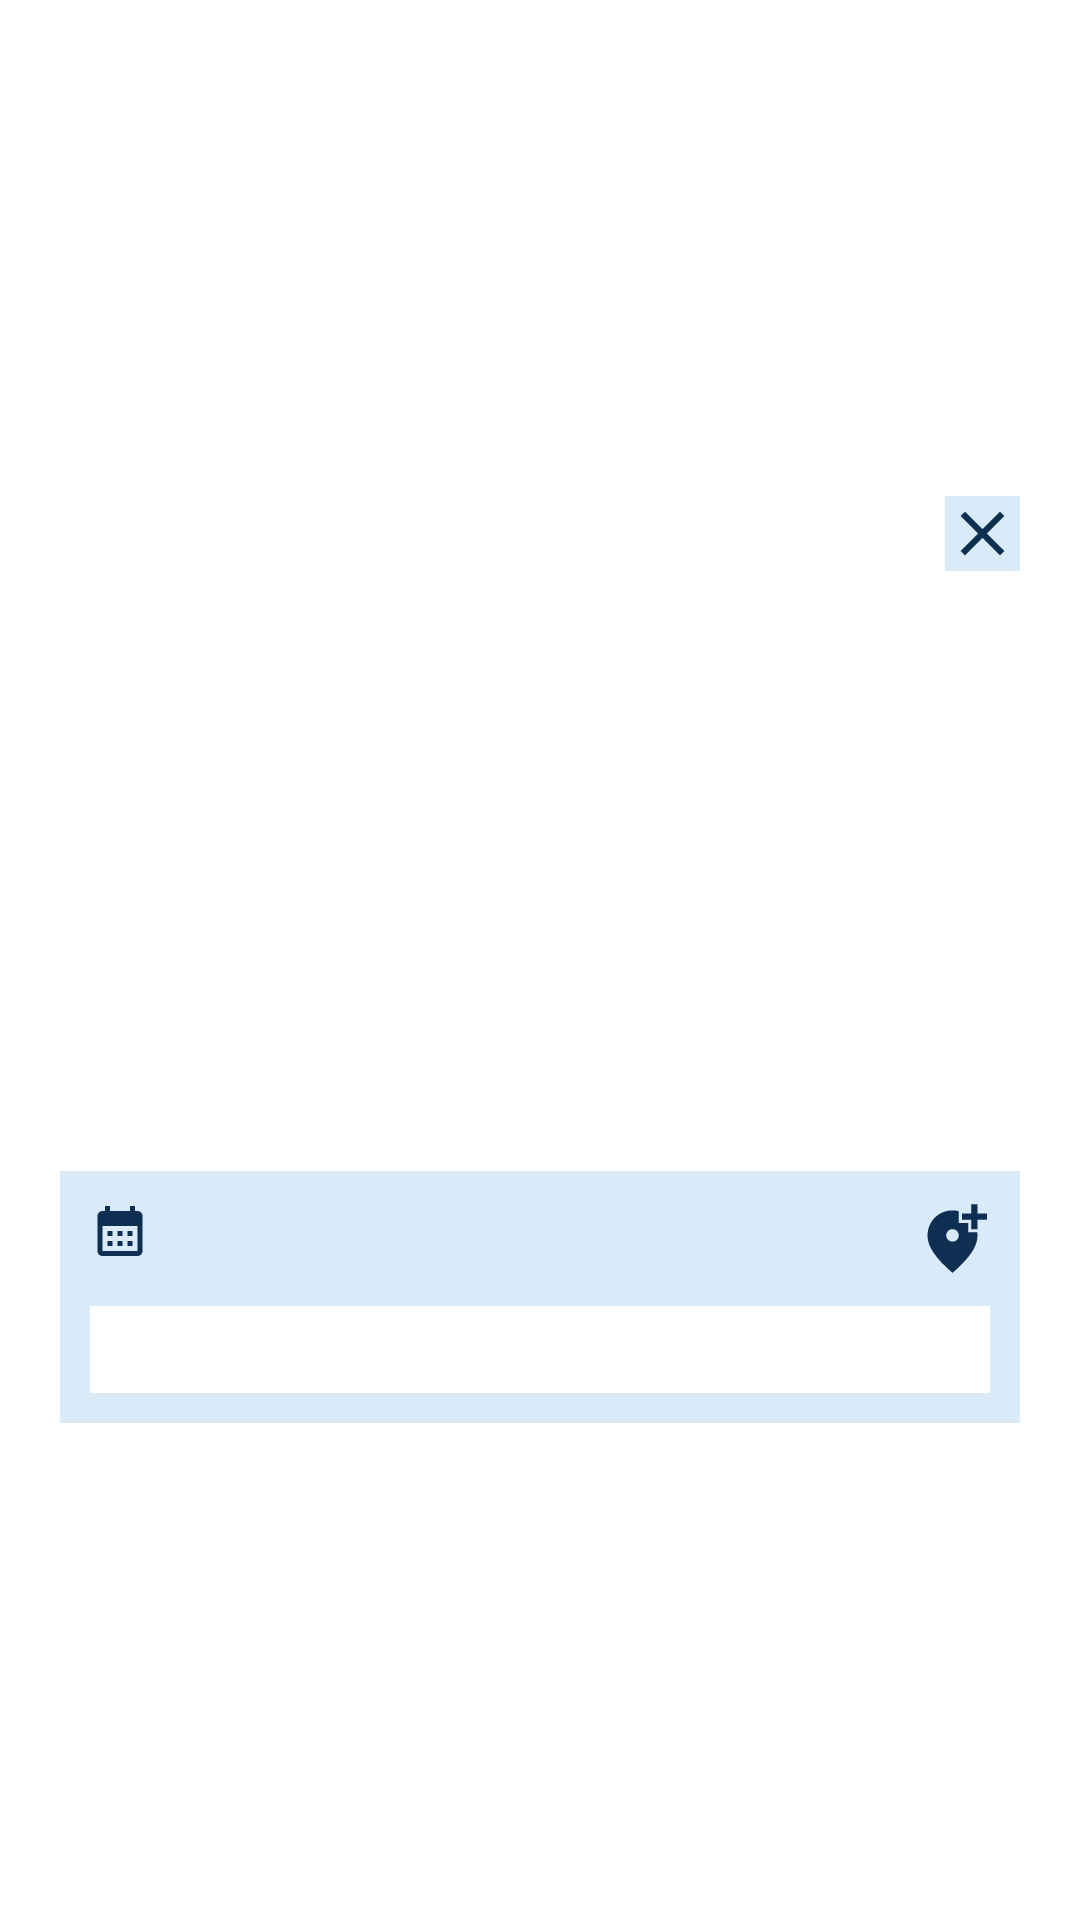

Where to tap for icons on this 1080px x 1920px app screen, as (x=x, y=y):
add location: (x=957, y=1238)
calendar month: (x=120, y=1231)
close: (x=982, y=533)
